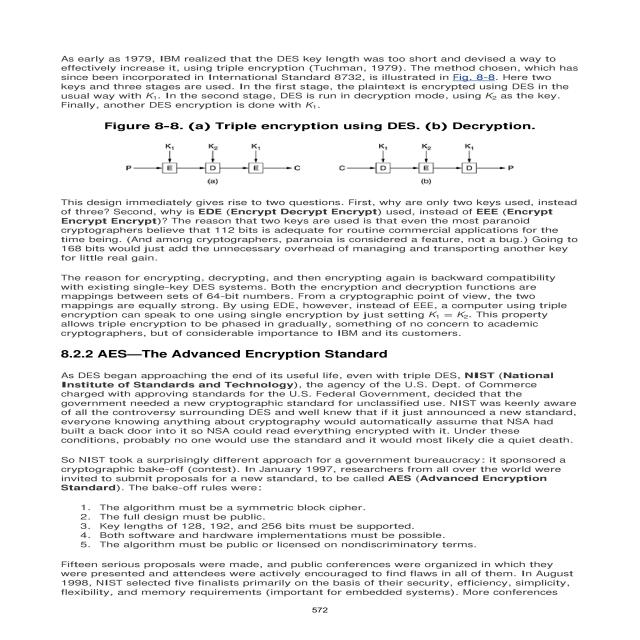diagram: (74, 116, 552, 194)
